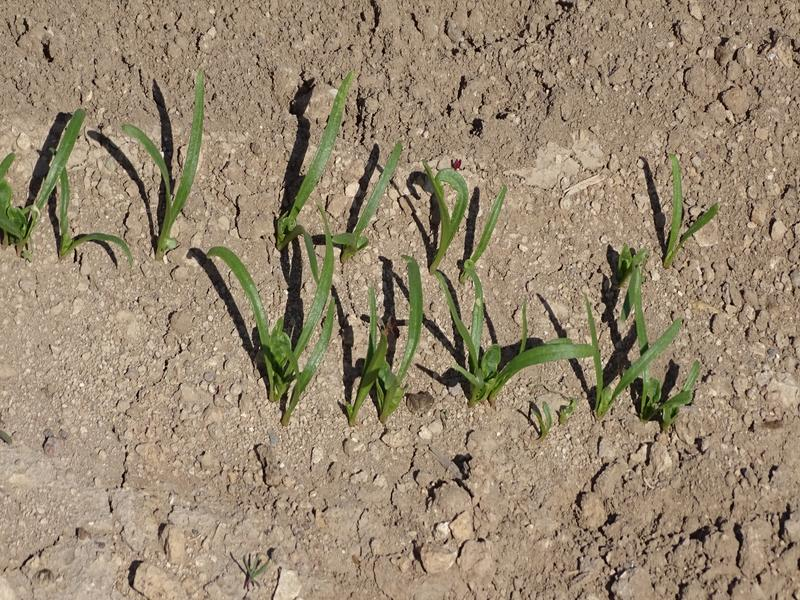Espinaca: (569, 247, 707, 425), (3, 104, 129, 259), (281, 86, 392, 249), (213, 250, 327, 408), (436, 276, 566, 404), (133, 72, 203, 256), (351, 259, 423, 416), (425, 182, 504, 265), (666, 161, 716, 247)
